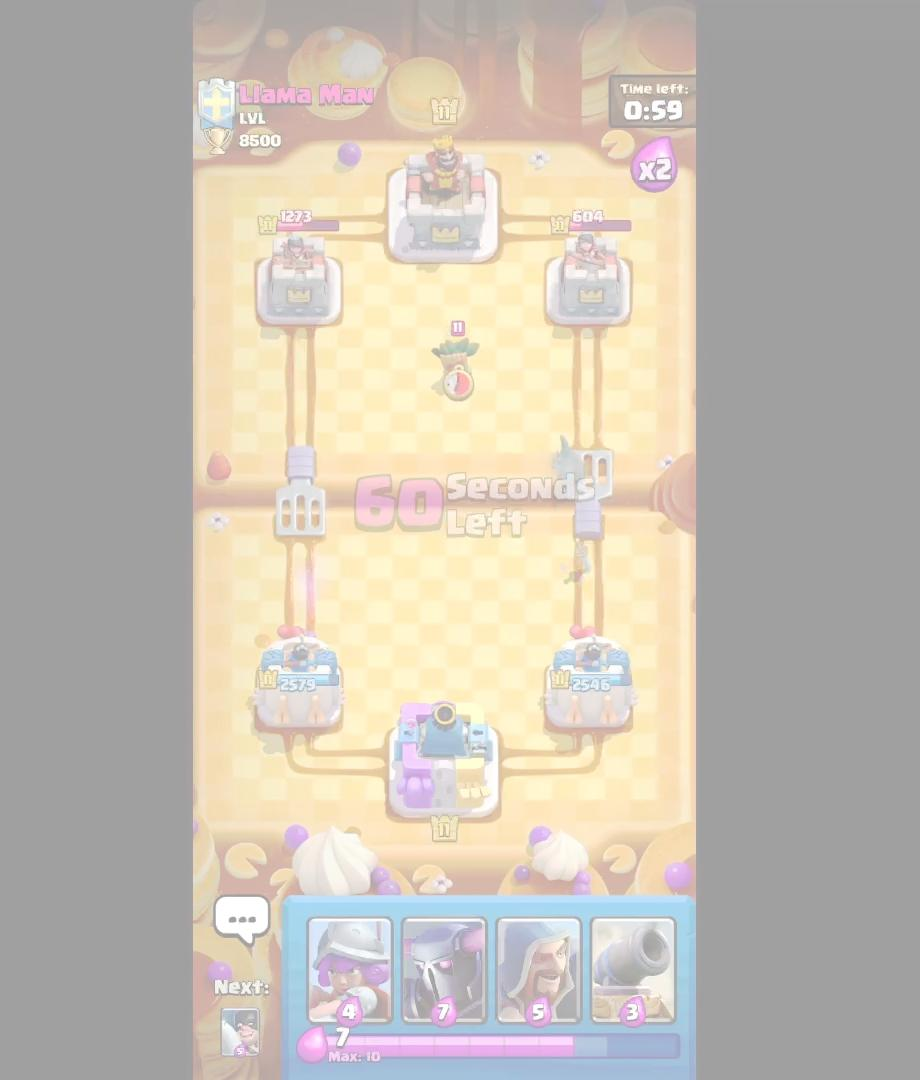Dart Goblin: (430, 322, 486, 400)
